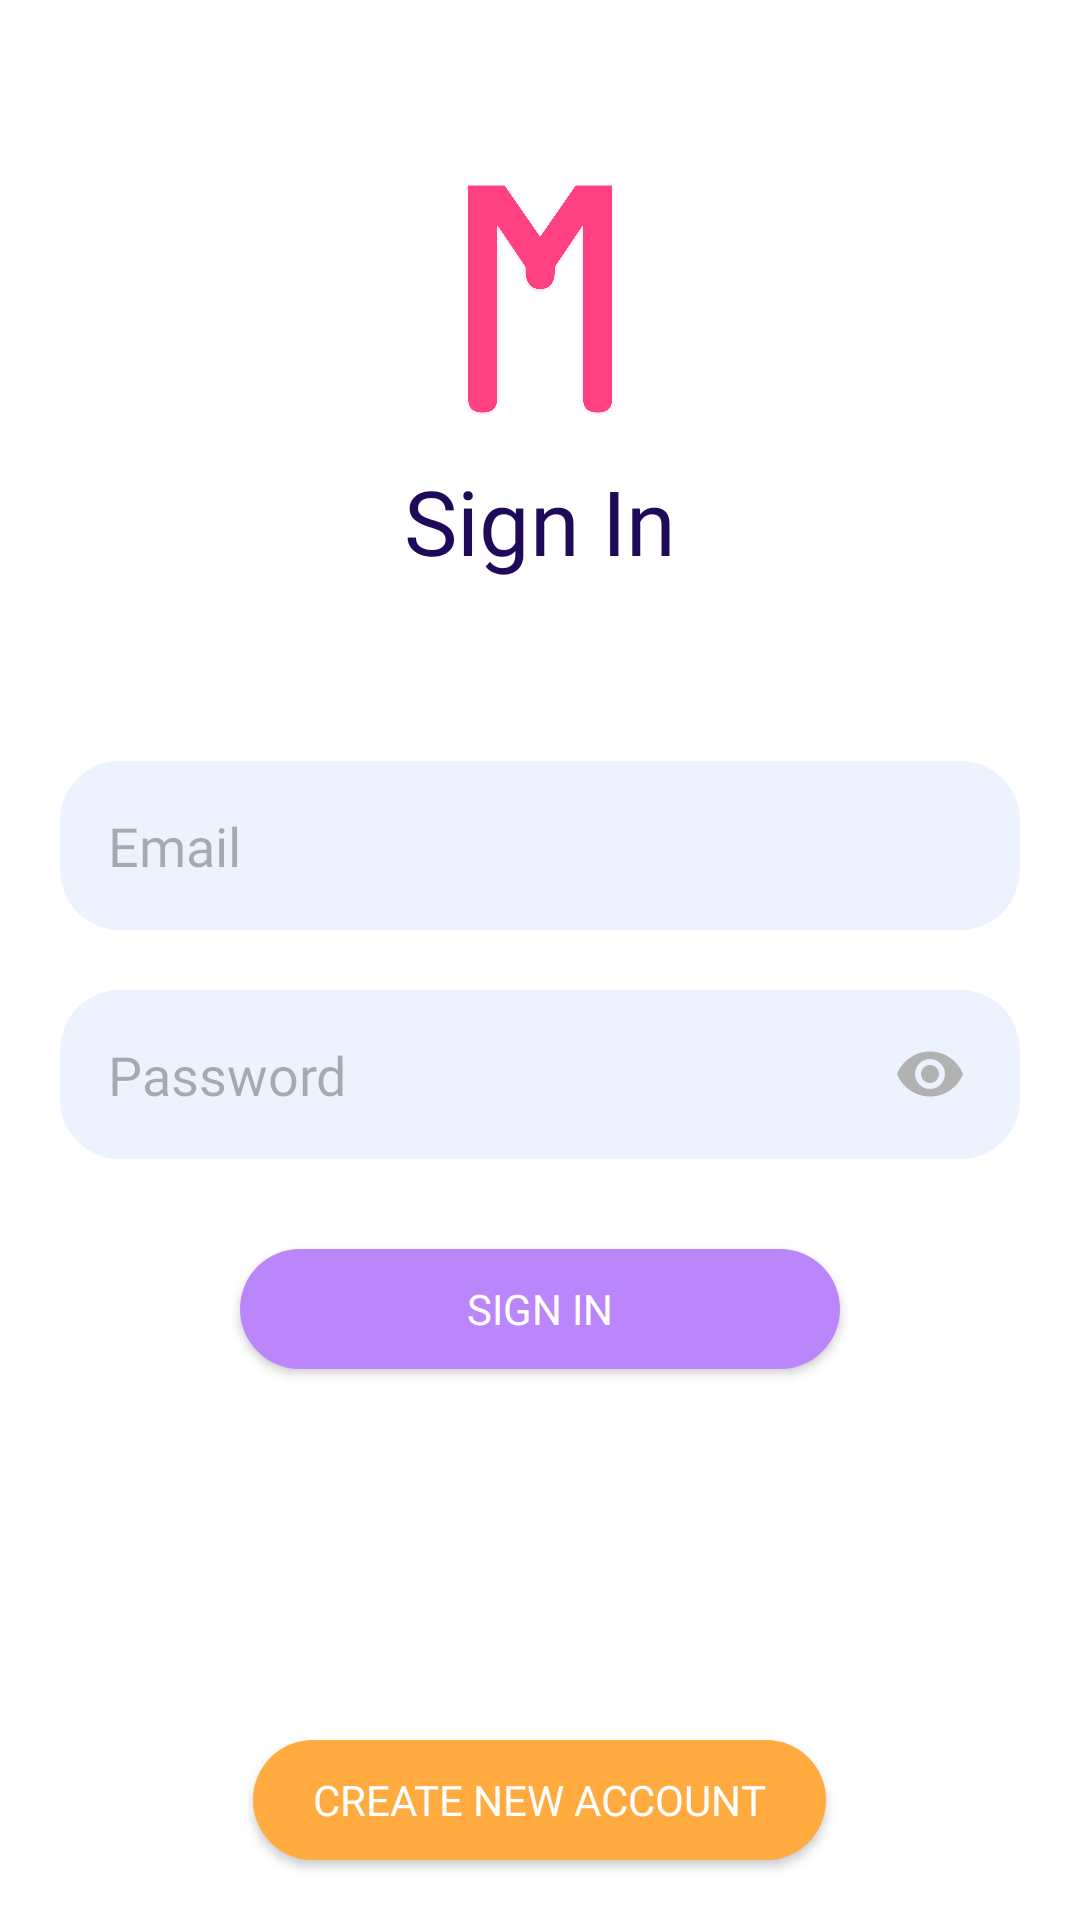

Named icons in this screenshot (1080w x 1920h) and their centers, (x=x, y=y):
visibility: (x=930, y=1074)
